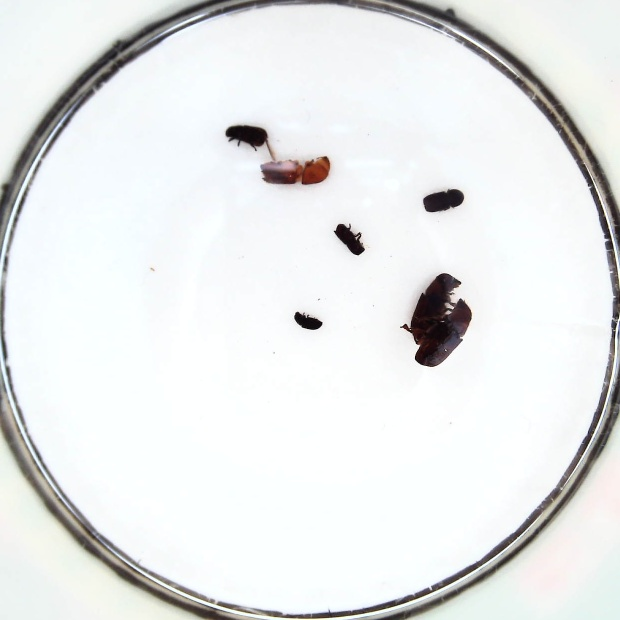acuminatus: (331, 224, 365, 255)
armandi: (223, 122, 268, 151)
boerner: (260, 155, 332, 187)
coleoptera: (292, 312, 323, 330)
leconte: (418, 299, 470, 366), (412, 272, 461, 329)
linnaeus: (421, 190, 466, 212)
